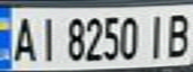0: (118, 11, 142, 61)
2: (81, 12, 106, 62)
5: (103, 12, 124, 62)
8: (63, 12, 87, 63)
A: (6, 11, 39, 63)
B: (160, 9, 193, 58)
I: (142, 10, 169, 61), (33, 12, 60, 63)
